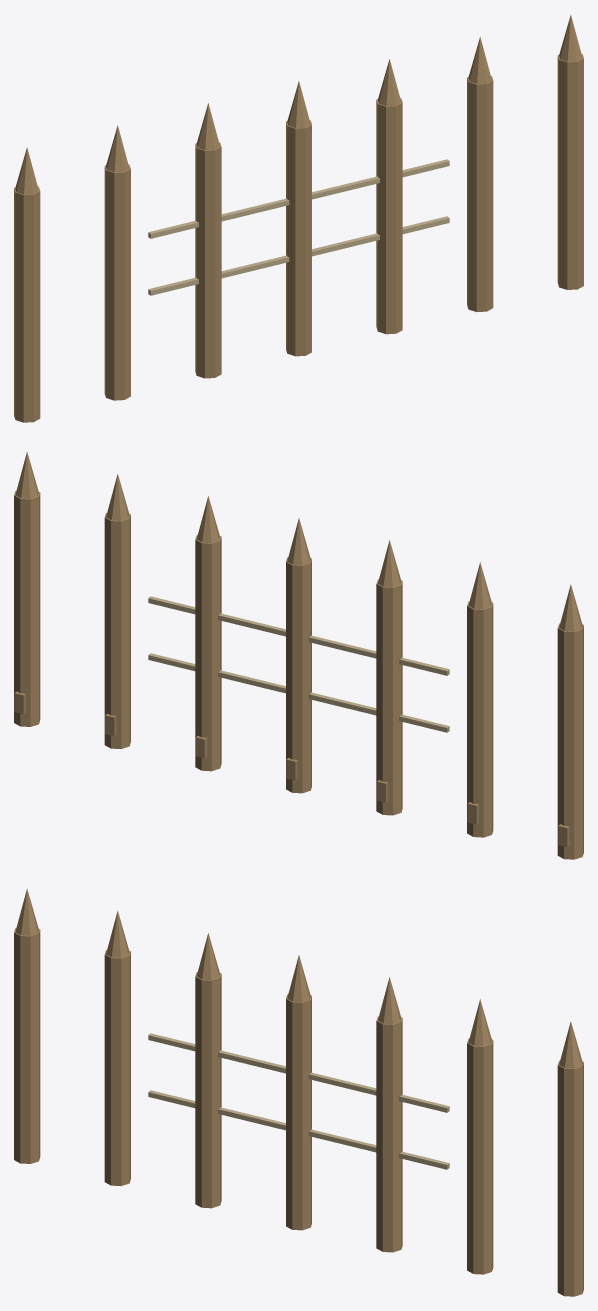
File: palisade.glb
3 renders of one model, top to bottom at view 1: azimuth 30°, elevation 25°; view 2: azimuth 150°, elevation 25°; view 3: azimuth 330°, elevation 25°, orthographic.
Visible parts, largest first — view 1: Cube.008; view 2: Cube.008; view 3: Cube.008.
Boxes of the visible parts, bbox=[...] form: Cube.008: bbox=[14, 14, 583, 422]; Cube.008: bbox=[14, 451, 583, 859]; Cube.008: bbox=[14, 888, 583, 1296].
Bounding box in the file's own units: 6.26 × 2.85 × 0.285.
